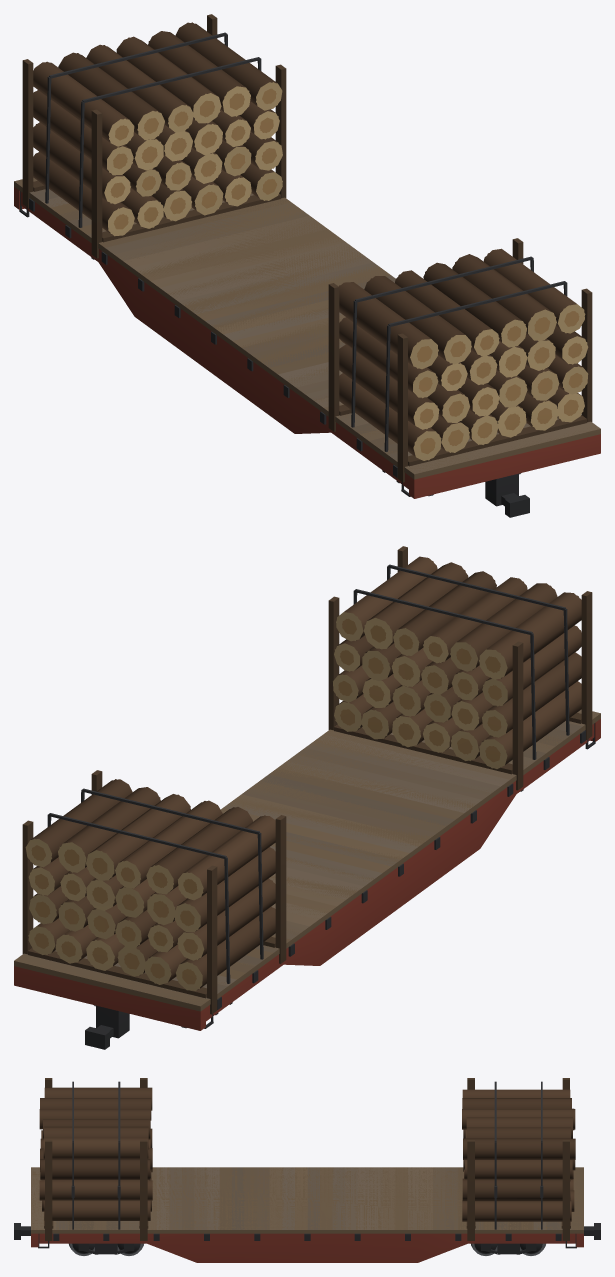
Rendered from logs.glb.
The picture shows the model from 3 angles, top to bottom: view 1: azimuth 30°, elevation 25°; view 2: azimuth 150°, elevation 25°; view 3: azimuth 270°, elevation 25°; orthographic projection. The views are drawn at different scales.
Parts seen in each view (by area): view 1: Body, Load, Far; view 2: Body, Load, Far; view 3: Body, Load, Far.
Part boxes in pixels (bbox=[...]): Body: bbox=[14, 14, 600, 517]; Load: bbox=[33, 22, 588, 460]; Far: bbox=[16, 22, 600, 483]; Body: bbox=[14, 546, 600, 1049]; Load: bbox=[25, 556, 581, 990]; Far: bbox=[14, 560, 599, 1015]; Body: bbox=[14, 1078, 600, 1262]; Load: bbox=[39, 1088, 575, 1221]; Far: bbox=[31, 1087, 583, 1254].
Size of the model in its own units: 6 by 5.73 by 23.36.
